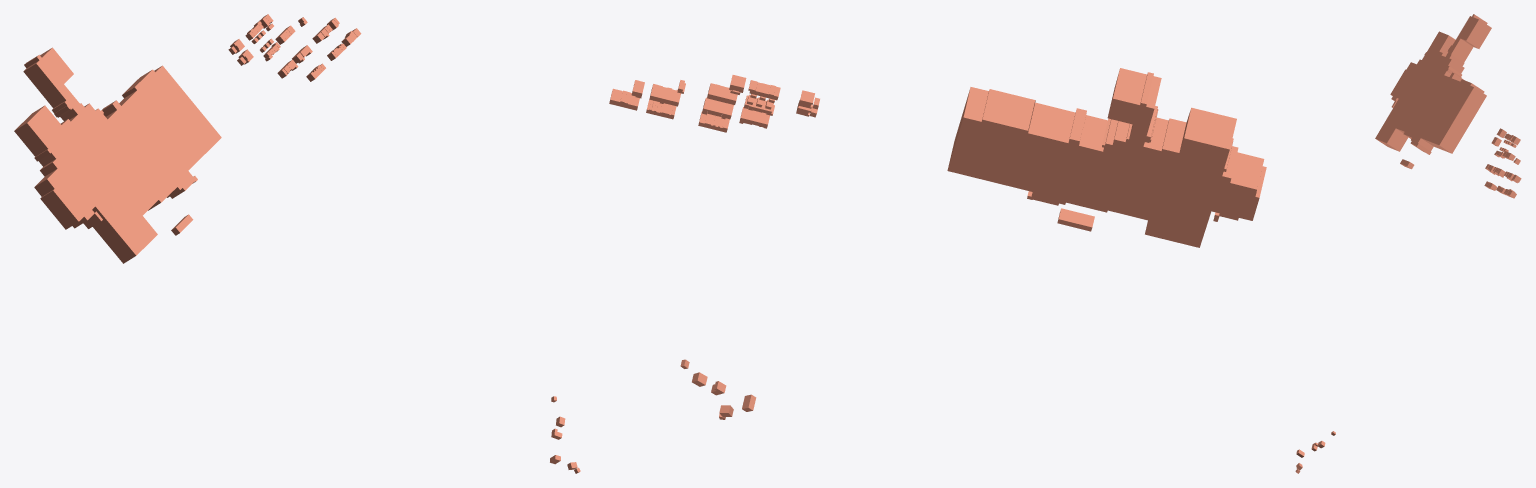
The picture shows the model from 3 angles, left to right: view 1: azimuth 30°, elevation 25°; view 2: azimuth 150°, elevation 25°; view 3: azimuth 270°, elevation 25°; orthographic projection. The views are drawn at different scales.
Parts seen in each view (by area): view 1: mesh; view 2: mesh; view 3: mesh.
Part boxes in pixels (bbox=[...]): mesh: bbox=[14, 14, 580, 473]; mesh: bbox=[609, 68, 1266, 419]; mesh: bbox=[1295, 14, 1521, 473].
Bounding box in the file's own units: 994 × 890 × 584.
